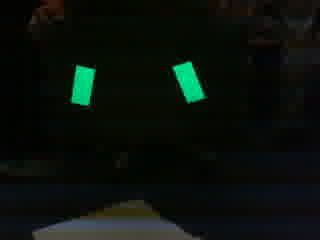target: (67, 56, 207, 110)
